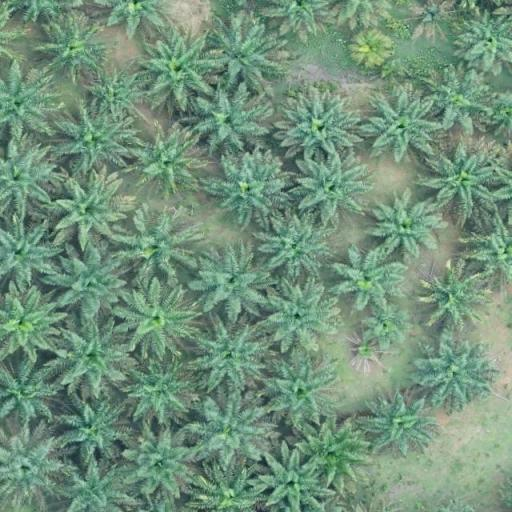Ganoderma: (356, 33, 392, 65)
